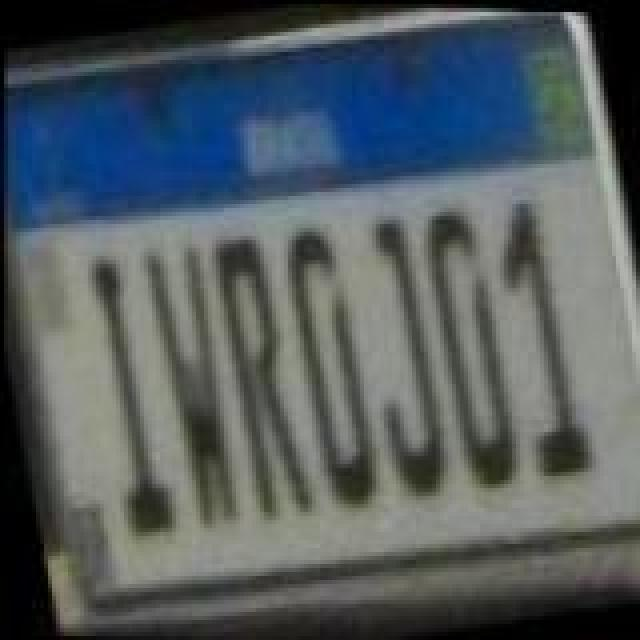1: (480, 188, 600, 480)
D: (406, 202, 530, 494), (274, 216, 390, 512)
I: (72, 250, 180, 546)
J: (336, 204, 456, 496)
R: (200, 226, 320, 526)
W: (136, 242, 252, 526)
